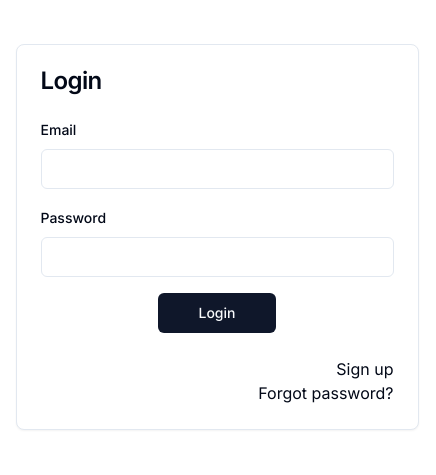
Test: Login Page › Requires an email and password to be entered
// Submit the form
Click the button "Login" at (217, 313), box [158,293,276,333]
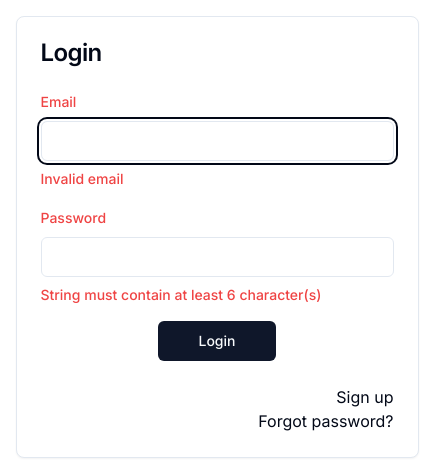
Check: the text "Invalid email" is shown once, box [40,170,124,187]
Check: the text "must contain at least" is shown once, box [40,286,321,303]
